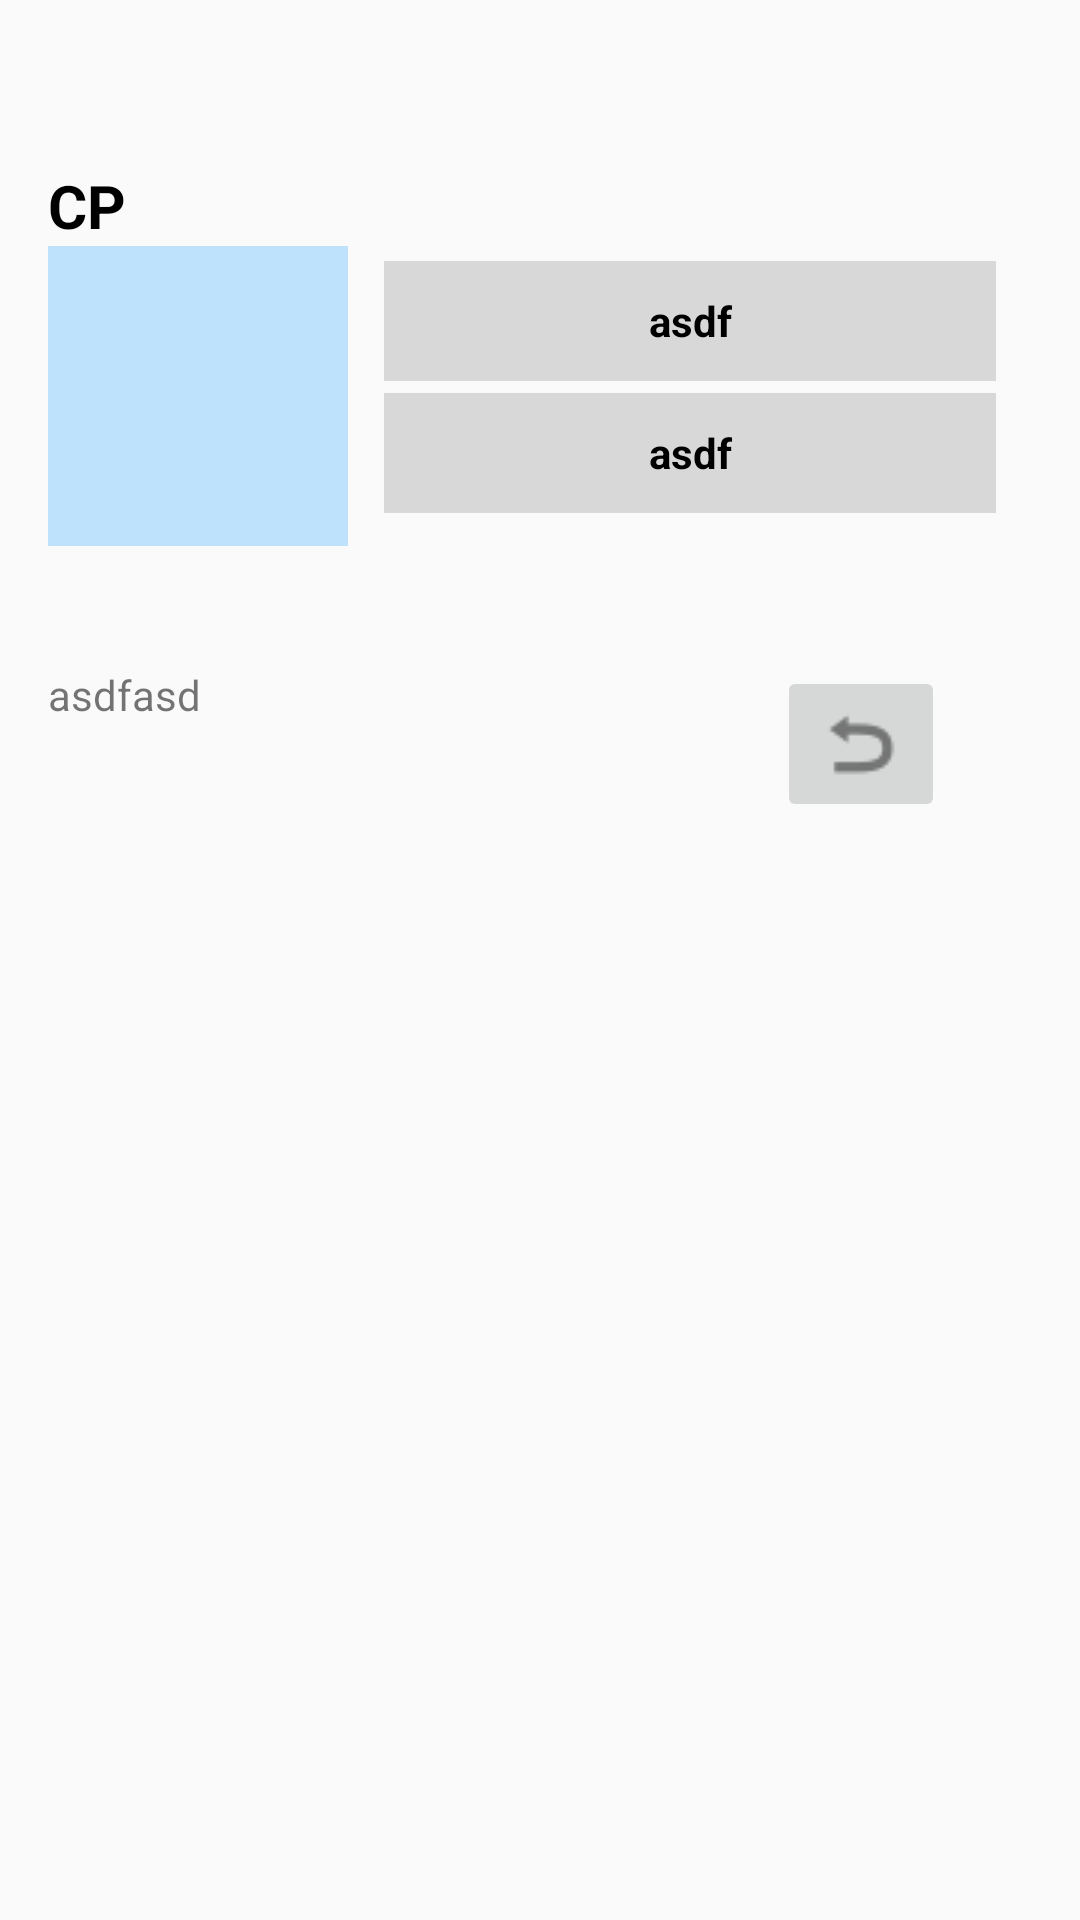

Locate icon controls on the screen. Image size 1080x1920, boxes as (x1, y1, x2, y2).
back: (789, 684, 933, 804)
